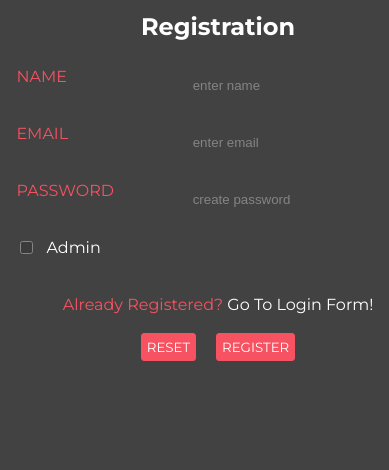
it: UserForm › shows validation errors on empty submit in registration mode
Step 1. Click the button "Register" → (256, 347), box [216, 333, 295, 361]
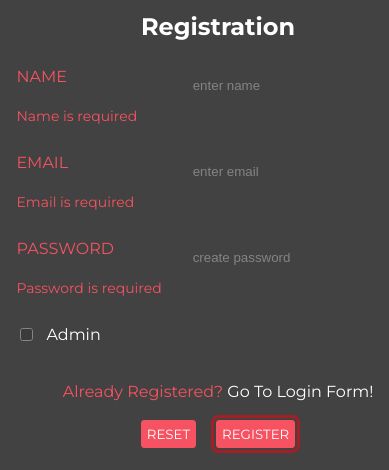
expect the text "Name is required" is shown: met, box [16, 107, 137, 125]
expect the text "Email is required" is shown: met, box [16, 193, 134, 211]
expect the text "Password is required" is shown: met, box [16, 279, 162, 297]
